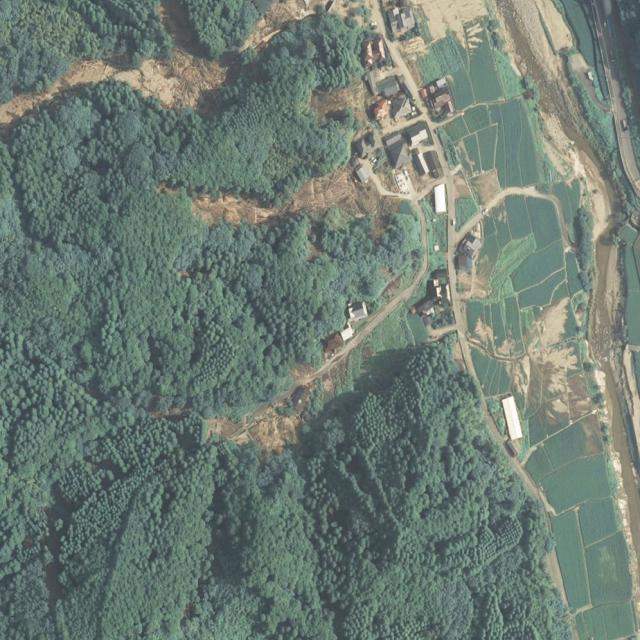landslide: (1, 0, 241, 130), (190, 161, 405, 227), (246, 0, 335, 51), (209, 405, 300, 450), (311, 79, 371, 139)
